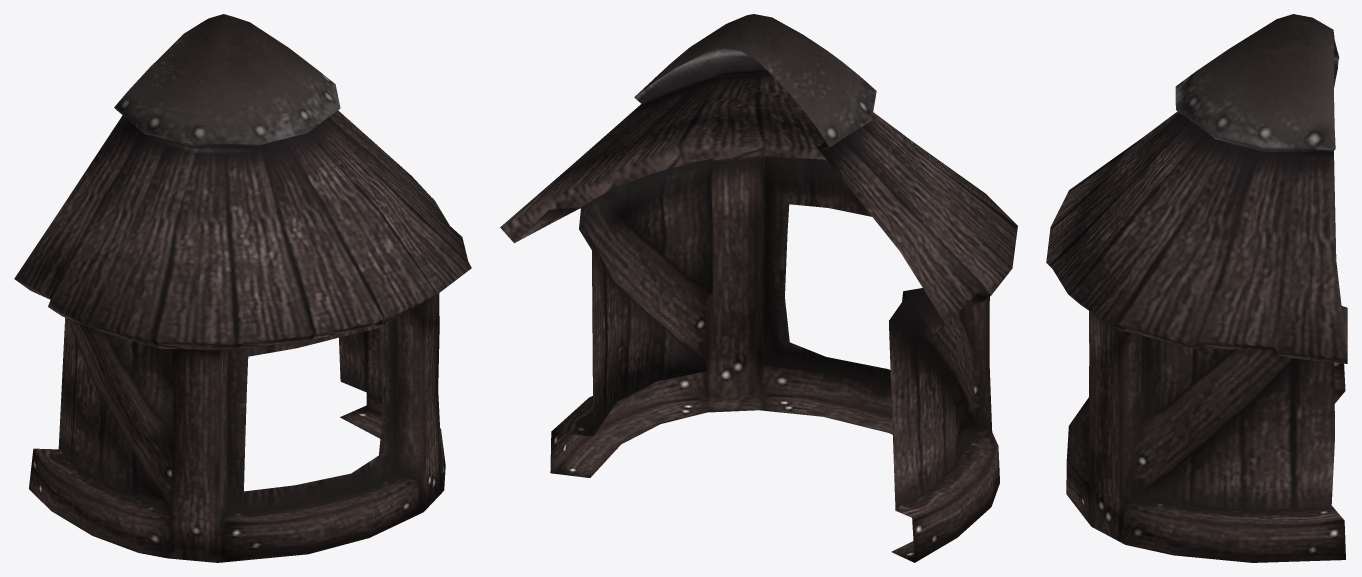
The model's file is Wood Cabin.FBX.
3 views of the same model, side by side, from view 1: azimuth 30°, elevation 25°; view 2: azimuth 150°, elevation 25°; view 3: azimuth 270°, elevation 25° (orthographic). The views are drawn at different scales.
Parts seen in each view (by area): view 1: Wood Cabin; view 2: Wood Cabin; view 3: Wood Cabin.
Boxes of the visible parts, x1=… form: Wood Cabin: x1=14, y1=14, x2=471, y2=562; Wood Cabin: x1=500, y1=14, x2=1017, y2=562; Wood Cabin: x1=1046, y1=14, x2=1347, y2=562.
Bounding box in the file's own units: 105 × 64.94 × 110.
1 material, 1 textured.
